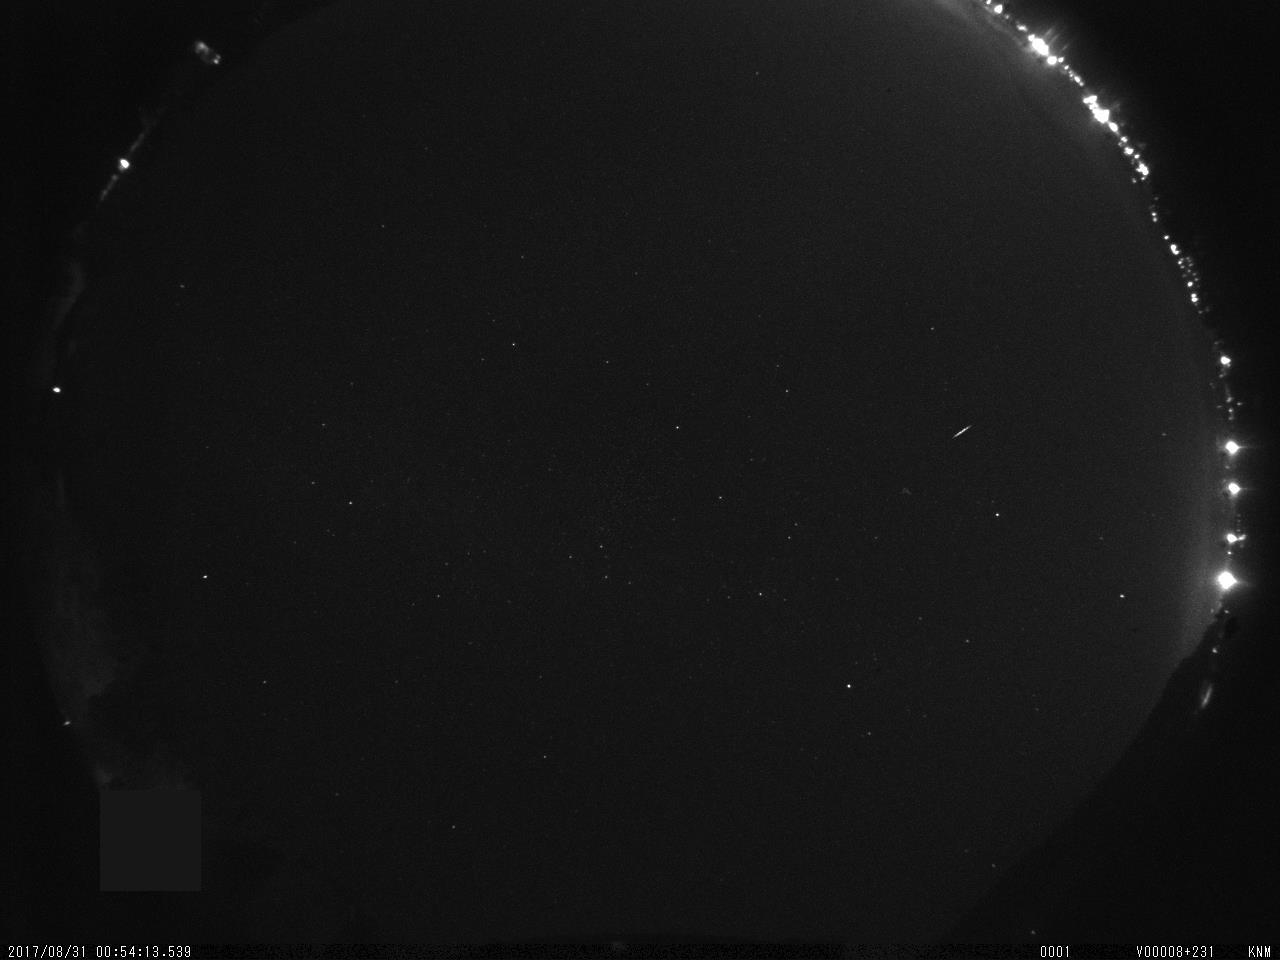meteor: (949, 422, 977, 446)
